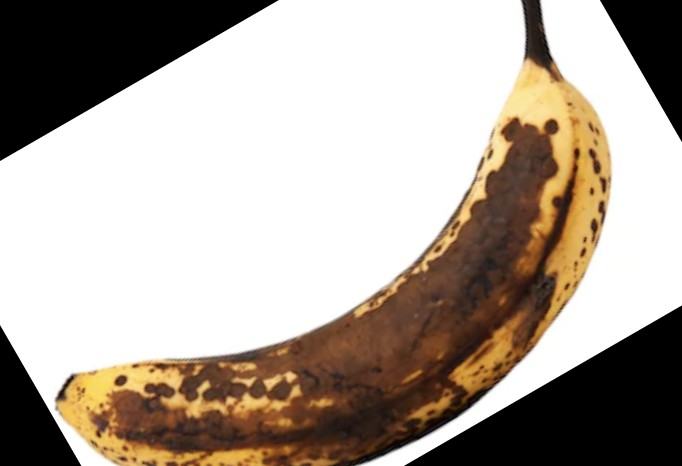rotten_banana: (54, 1, 612, 466)
